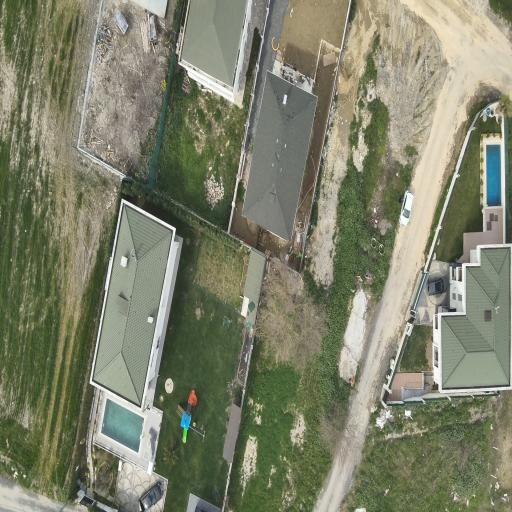car: (139, 483, 163, 511), (399, 190, 414, 226), (428, 278, 444, 295)
